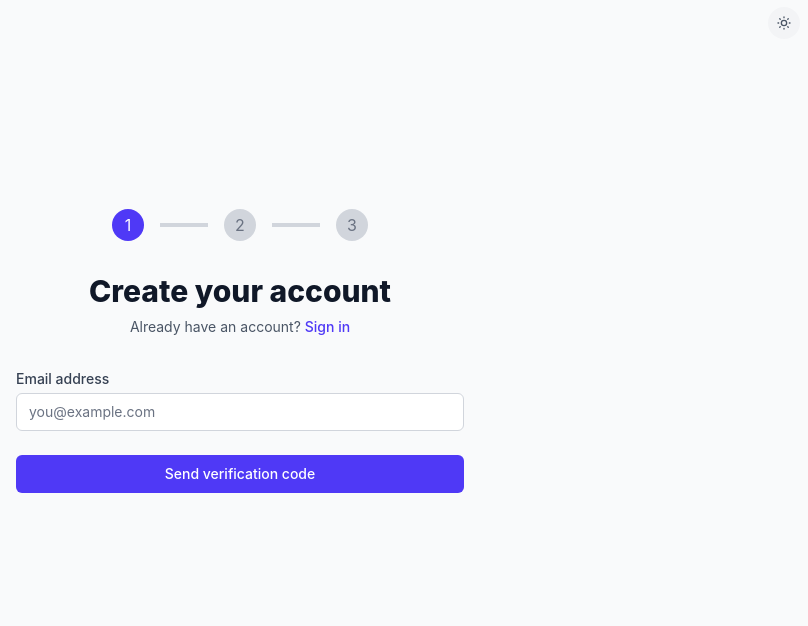
Test case: RegisterPage › Step 2: Verify Code › should allow resending verification code
The width and height of the screenshot is (808, 626).
Type "test@example.com" into the field labelled "Email address" at (240, 412), box [16,393,464,431]
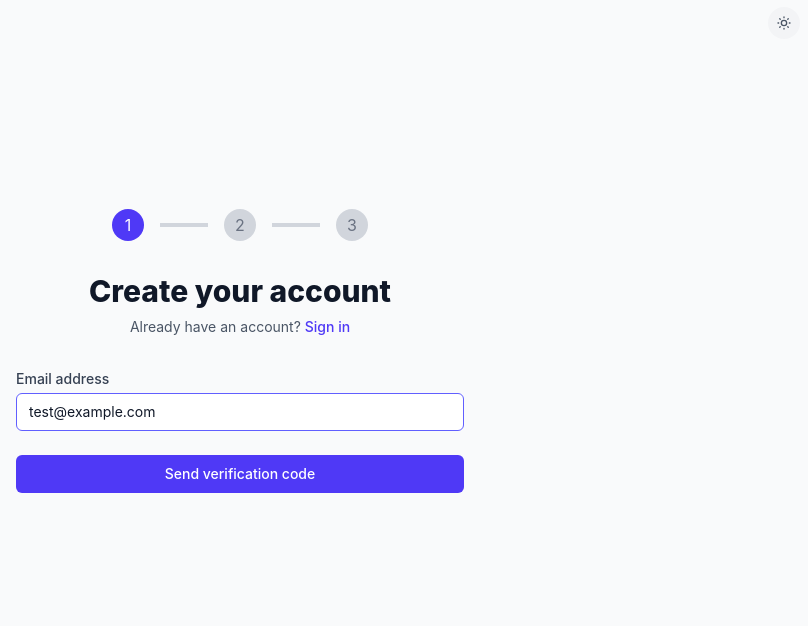
Click the button "Send verification code" at (240, 474), box [16,455,464,493]
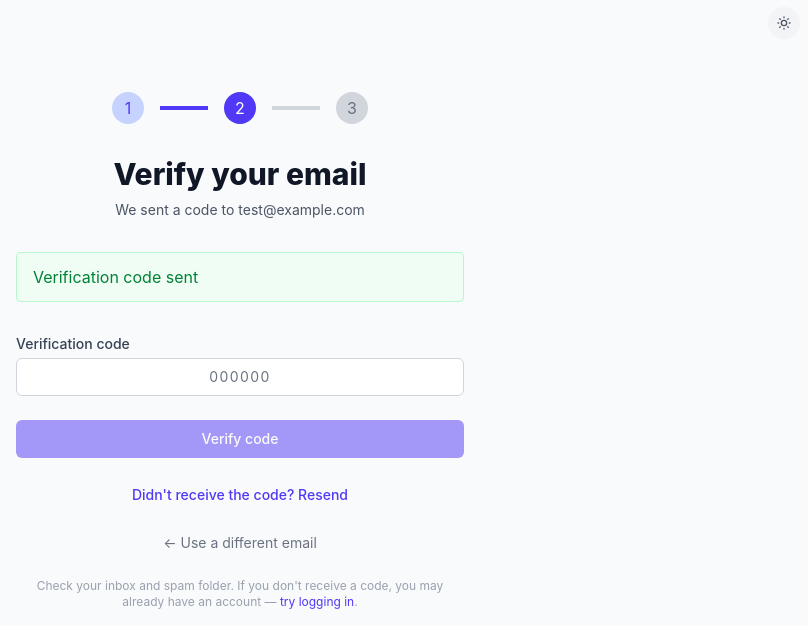
Check: the heading "Verify your email" is shown, box [114,156,366,192]
Click the button "Didn't receive the code? Resend" at (240, 495), box [132,485,348,505]
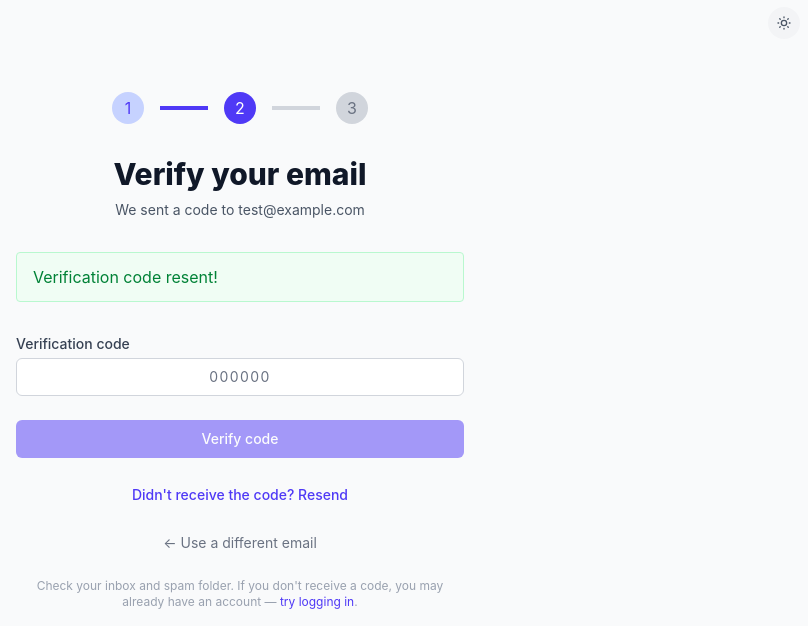
Check: the text "Verification code resent!" is shown, box [16,252,464,302]
